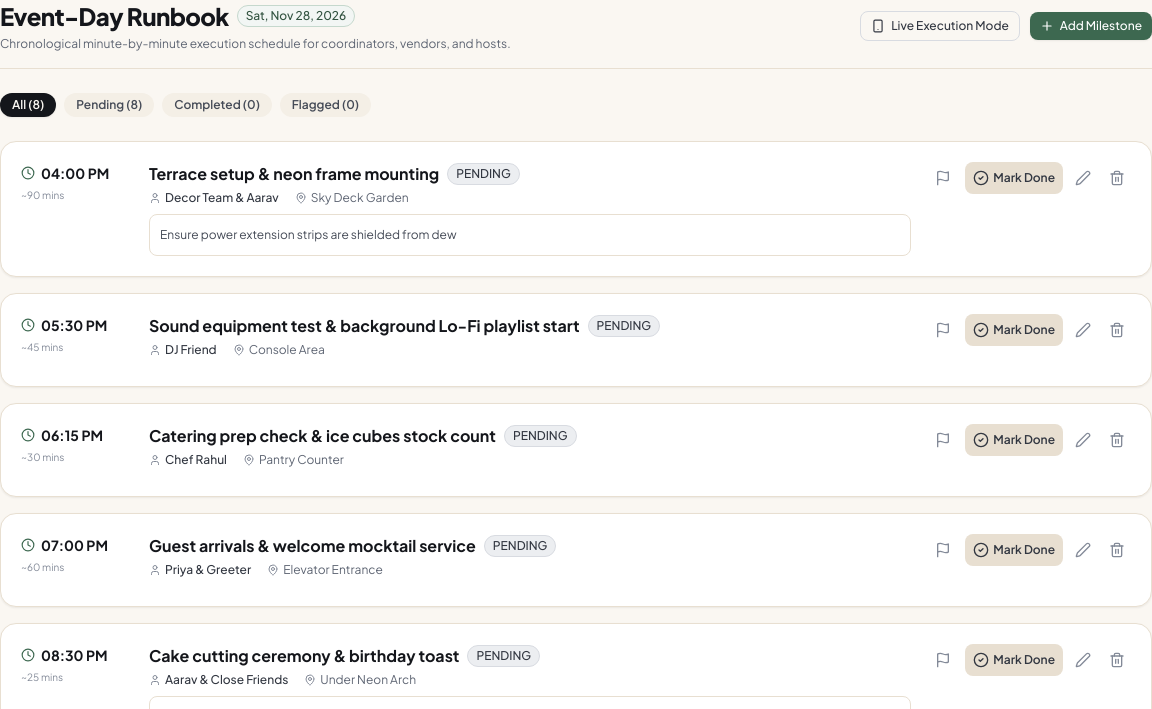
it: RunbookPage Feature Tests › opens modal and adds a new runbook milestone
Click the button "Add Milestone" at (1091, 26), box [1030,12,1151,40]
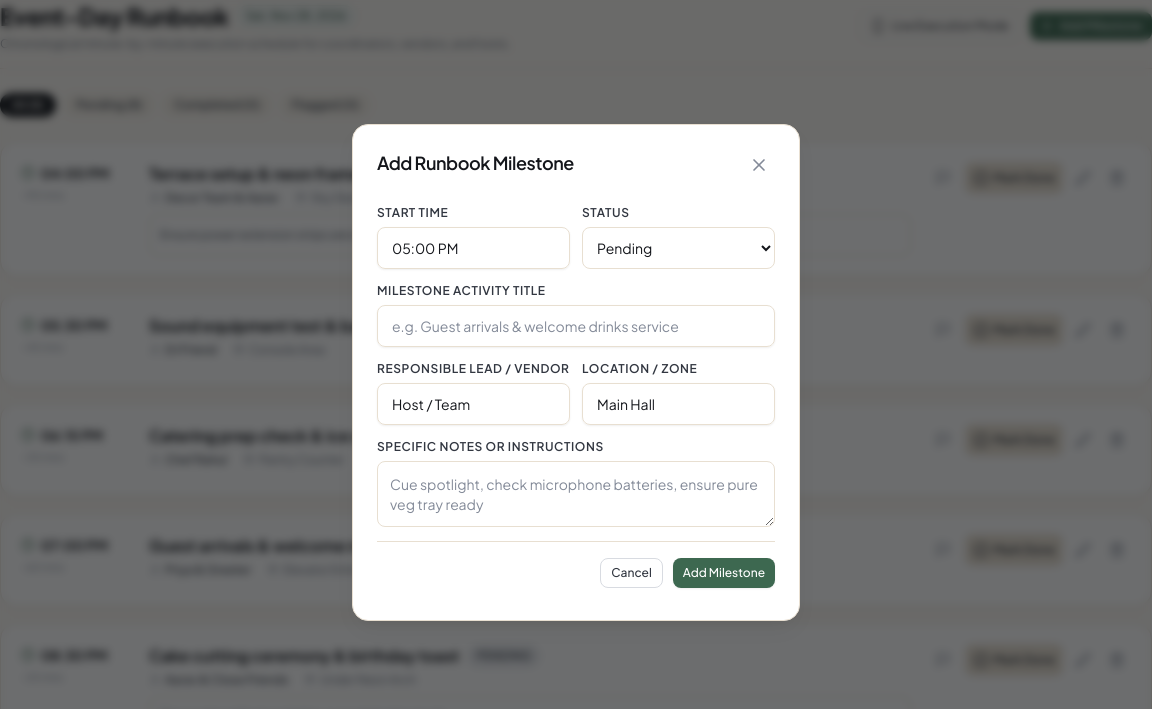
expect the dialog "Add Runbook Milestone" is shown: met, box [352,124,800,620]
Type "Guest of Honor Speech" into the field labelled "Milestone Activity Title" at (576, 326), box [377,304,775,346]
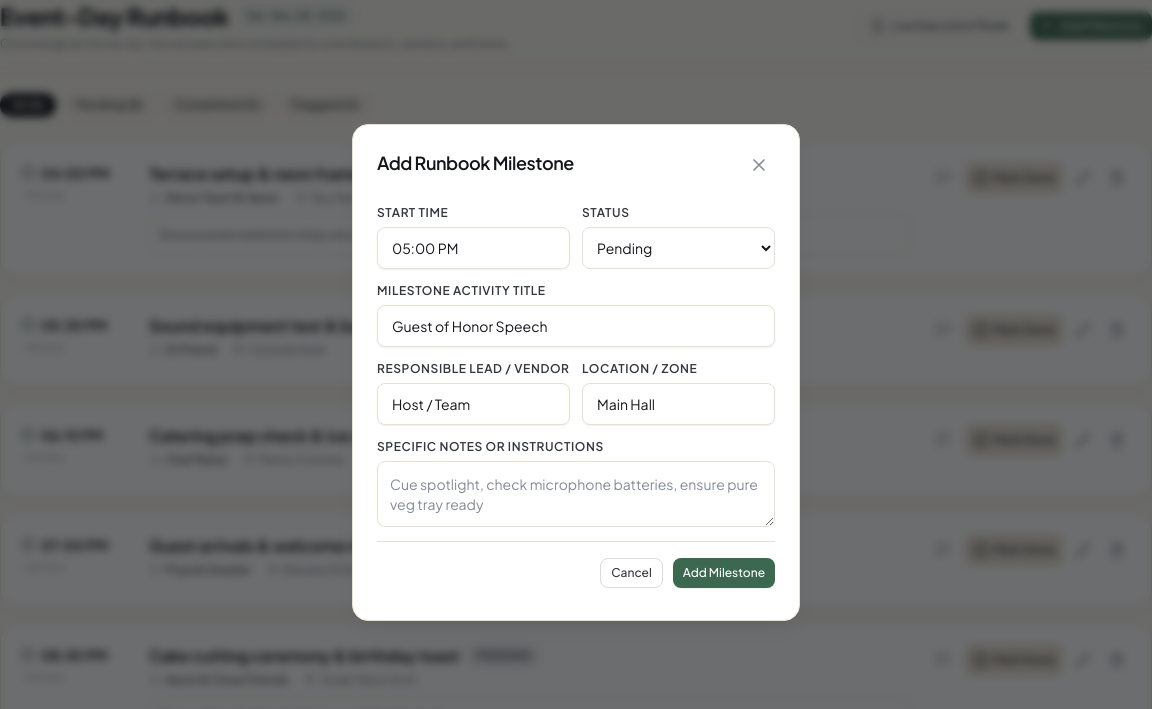
Click the button "Add Milestone" at (724, 572), box [673,558,775,588]
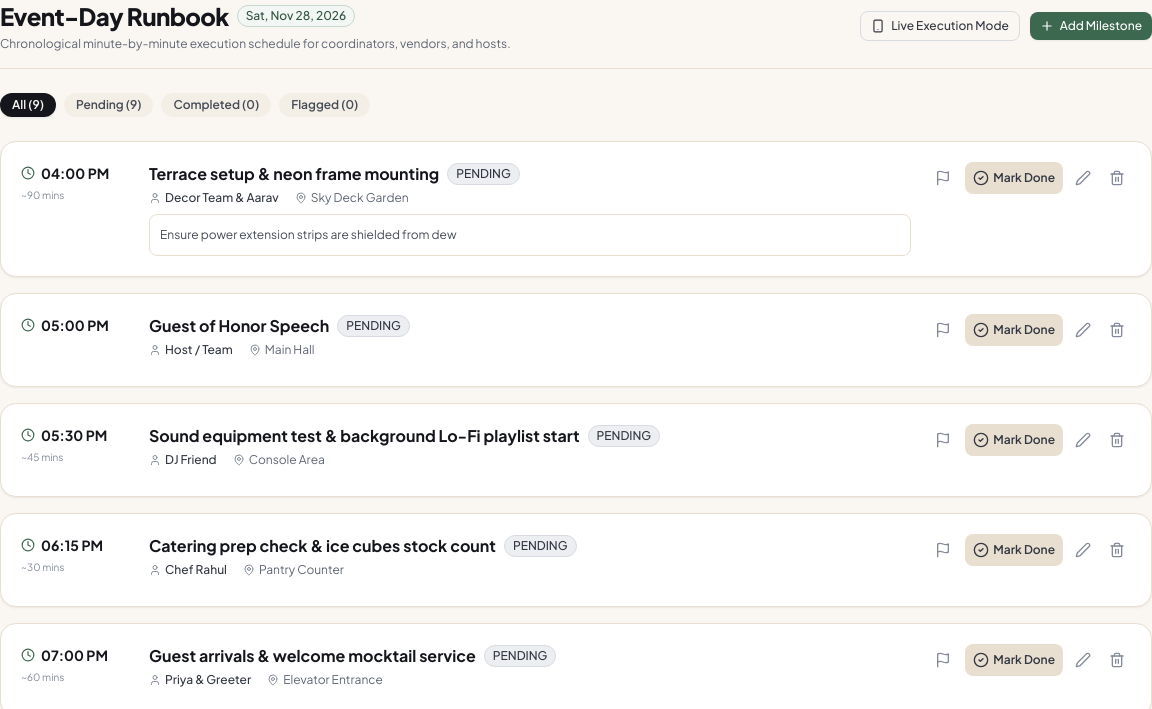
expect the heading "Add Runbook Milestone" is gone: met
expect the heading "Guest of Honor Speech" is shown: met, box [149,314,329,338]
